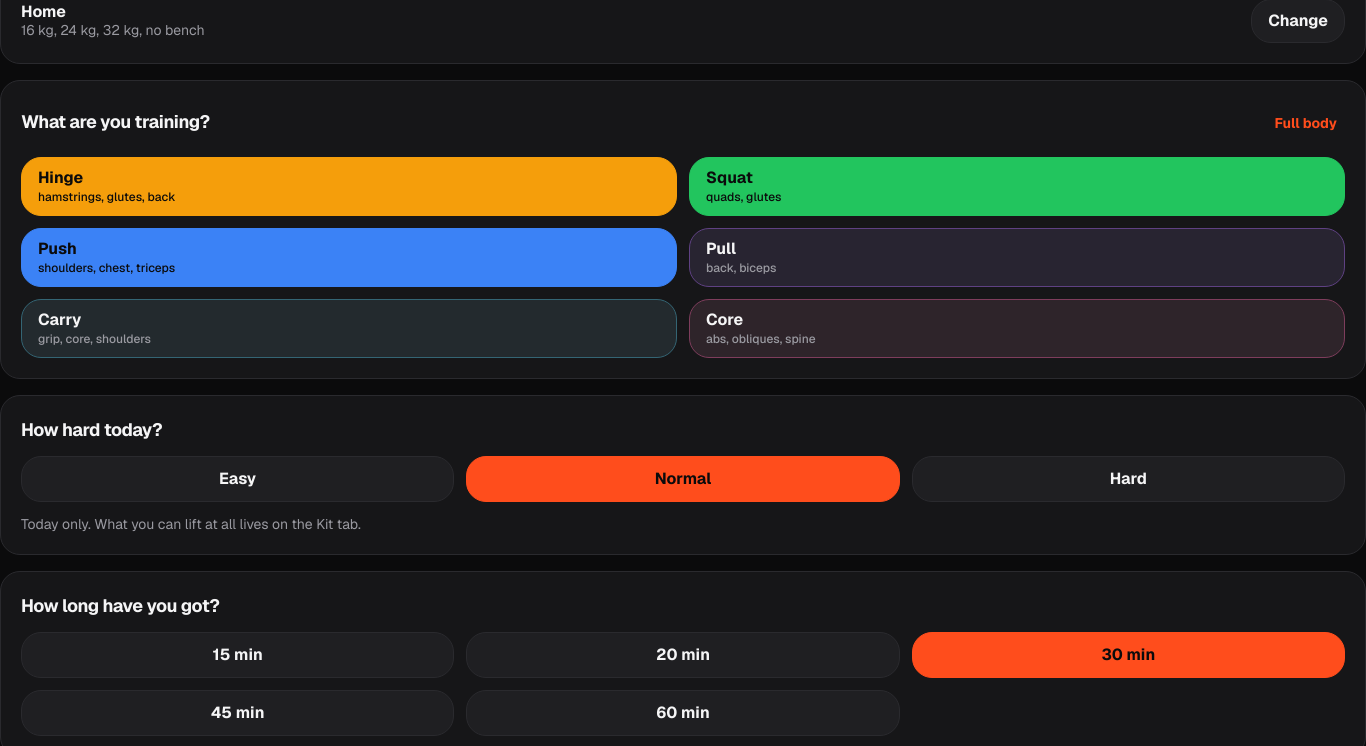
it: SetupForm › will not generate with no pattern selected
The width and height of the screenshot is (1366, 746).
Click the button "Hinge hamstrings, glutes, back".
click(61, 178)  # box x1=21 y1=157 x2=677 y2=216
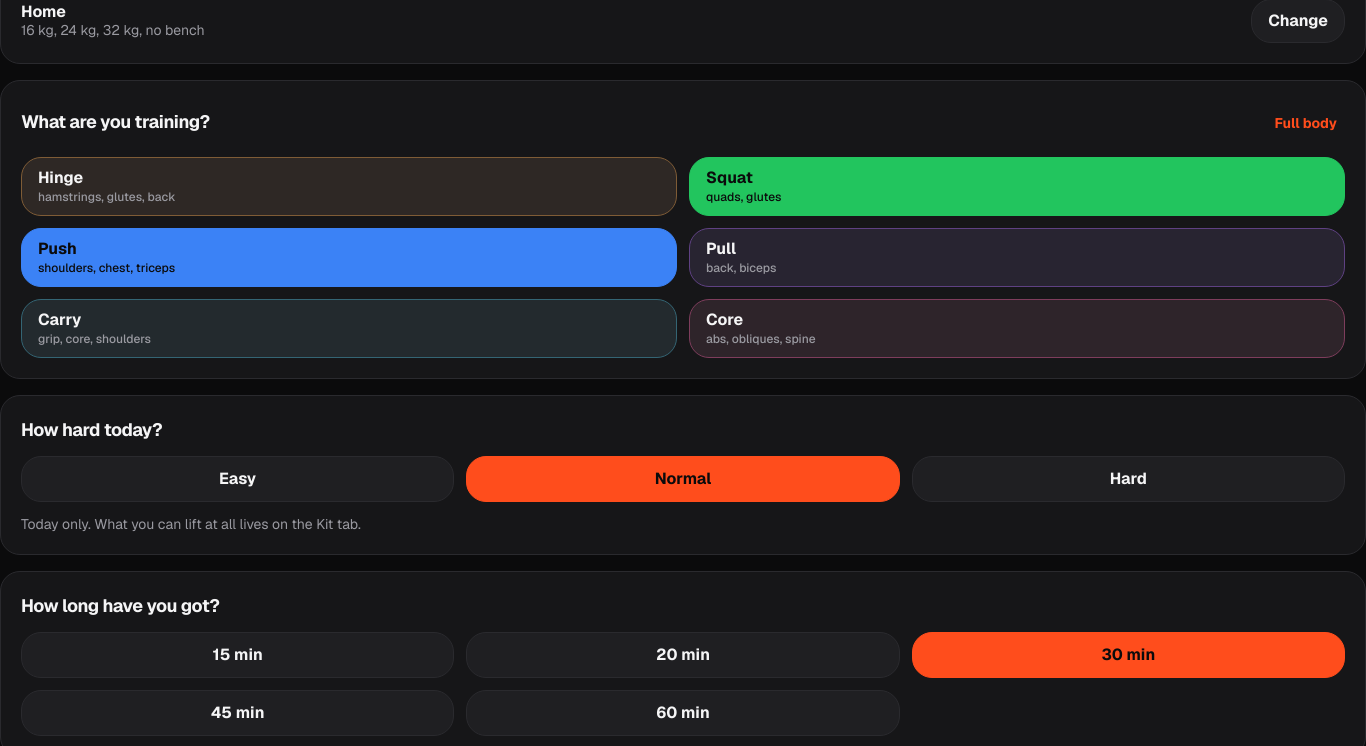
Click the button "Squat quads, glutes".
click(729, 178)  # box x1=689 y1=157 x2=1345 y2=216
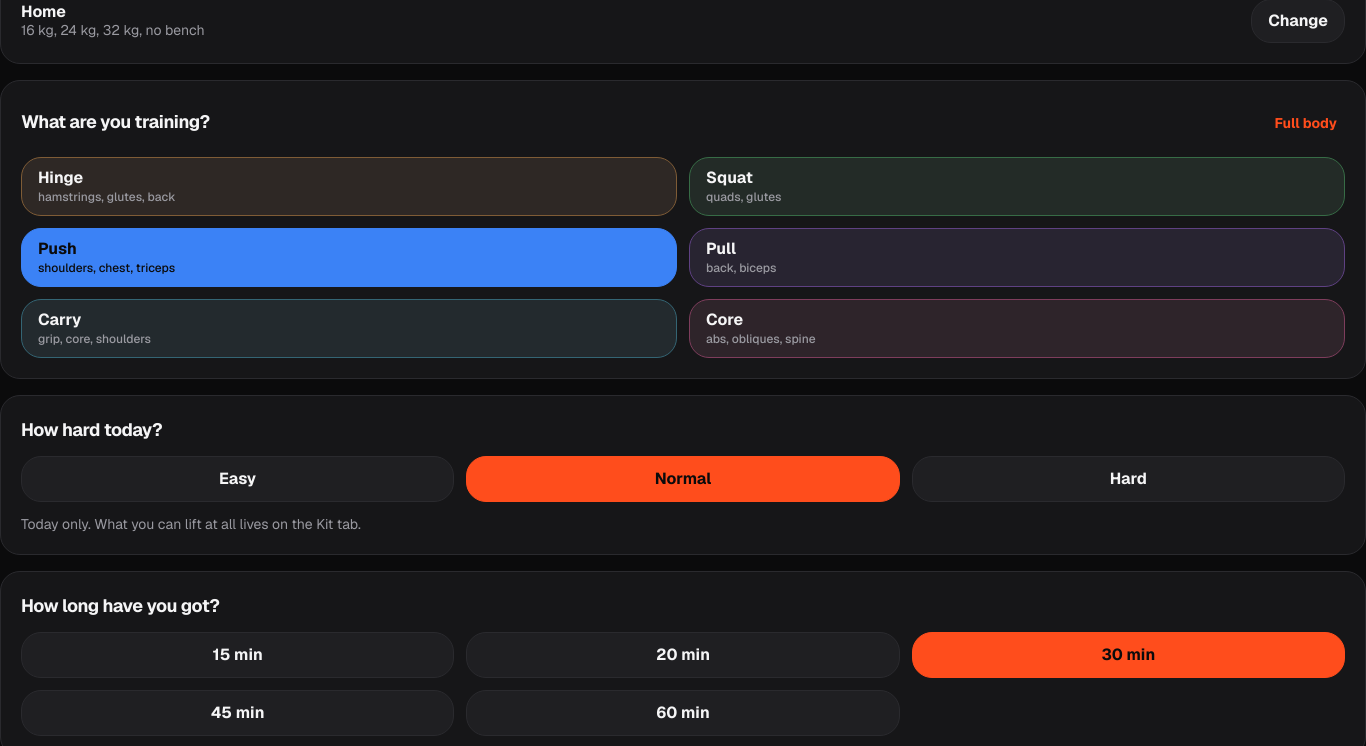
Click the button "Push shoulders, chest, triceps".
click(57, 248)  # box x1=21 y1=228 x2=677 y2=287
(page scrolled)
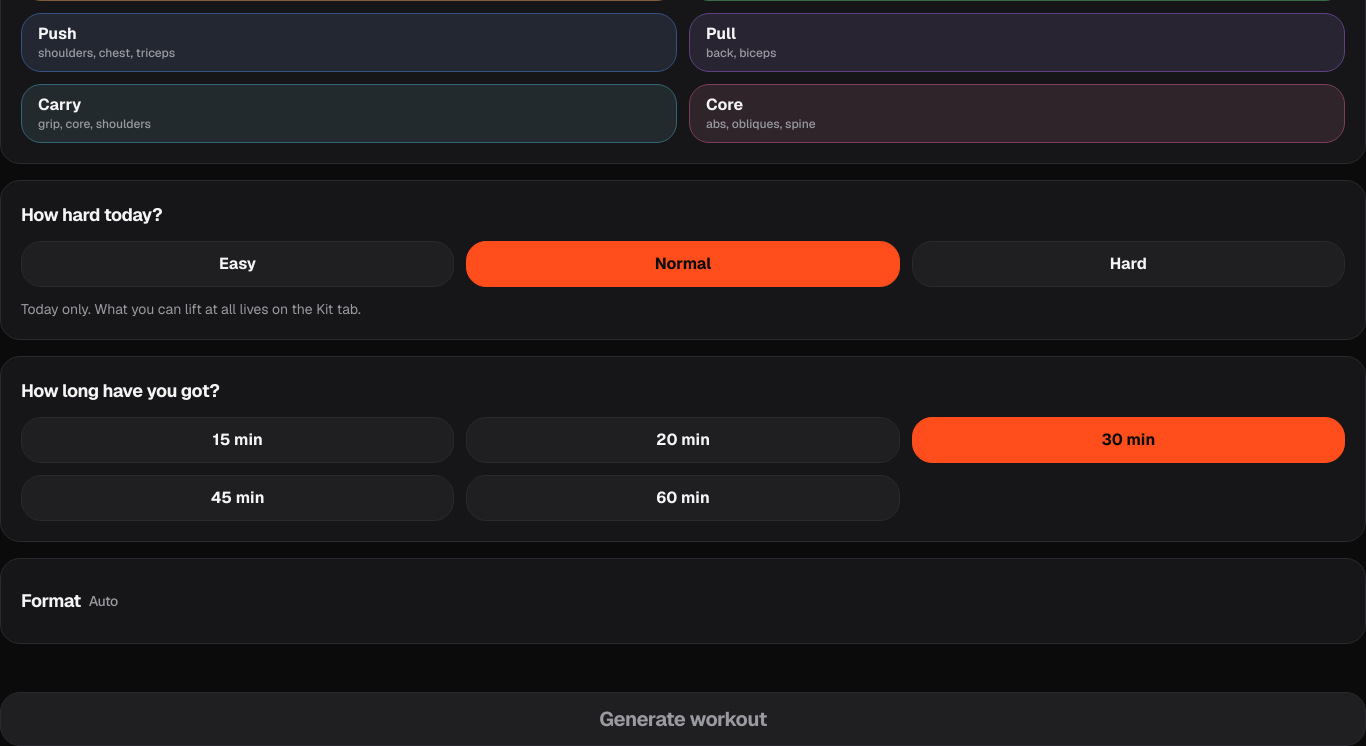
expect the button "Generate workout" is disabled: met, box x1=0 y1=692 x2=1365 y2=745
